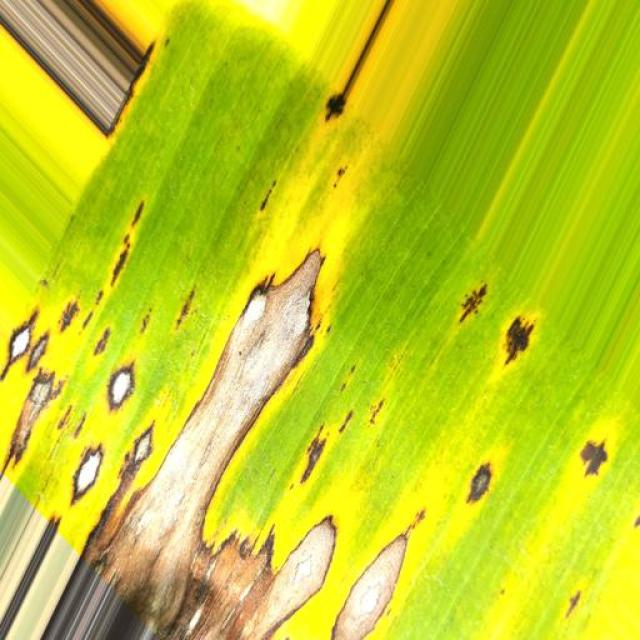Early_rust: (0, 79, 640, 635)
